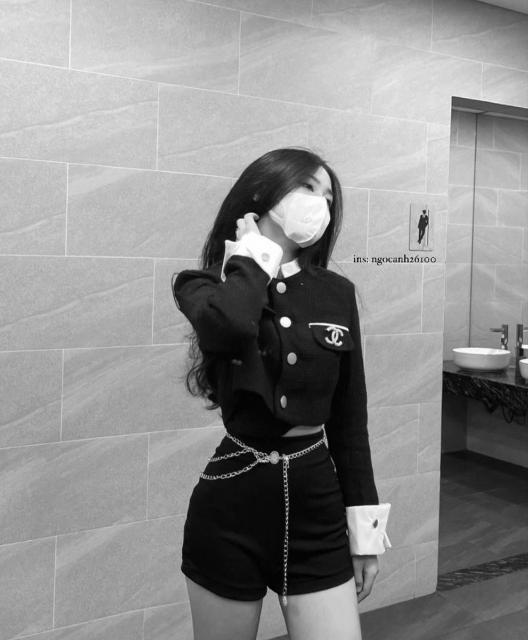Chanel: (320, 318, 350, 356)
